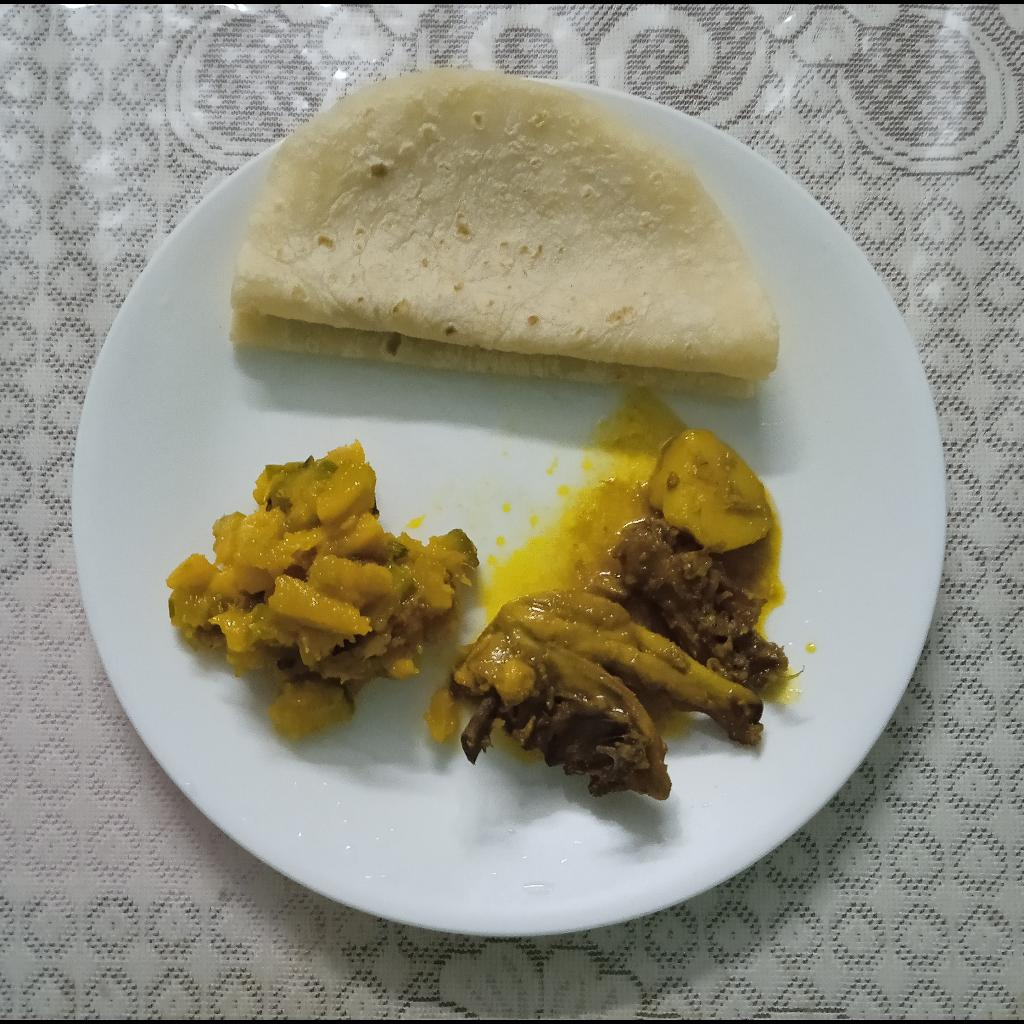chicken: (442, 589, 796, 803)
kumra-vaji: (173, 449, 472, 719)
potato: (656, 429, 771, 554)
ruti: (231, 75, 786, 398)
